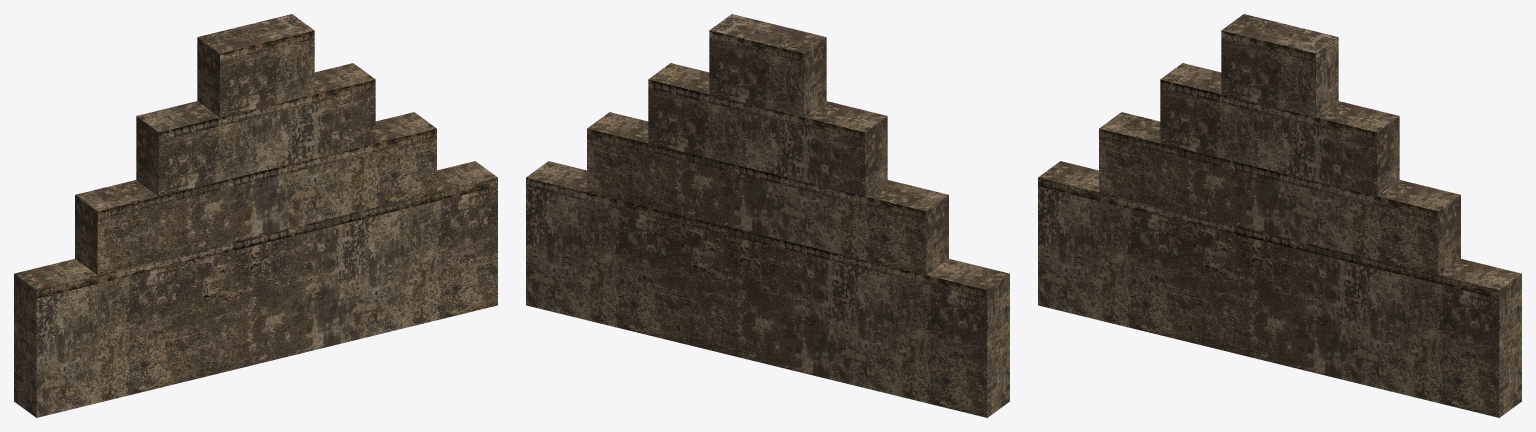
The model's file is materials_5_wall_rectangle_7.fbx.
The picture shows the model from 3 angles, left to right: view 1: azimuth 30°, elevation 25°; view 2: azimuth 150°, elevation 25°; view 3: azimuth 330°, elevation 25°; orthographic projection.
Parts seen in each view (by area): view 1: materials_5_wall_rectangle_7; view 2: materials_5_wall_rectangle_7; view 3: materials_5_wall_rectangle_7.
Boxes of the visible parts, x1,y1,x2,y2 form: materials_5_wall_rectangle_7: (14, 14, 497, 417); materials_5_wall_rectangle_7: (526, 14, 1009, 417); materials_5_wall_rectangle_7: (1038, 14, 1521, 417).
Bounding box in the file's own units: 630 × 417 × 53.31.
